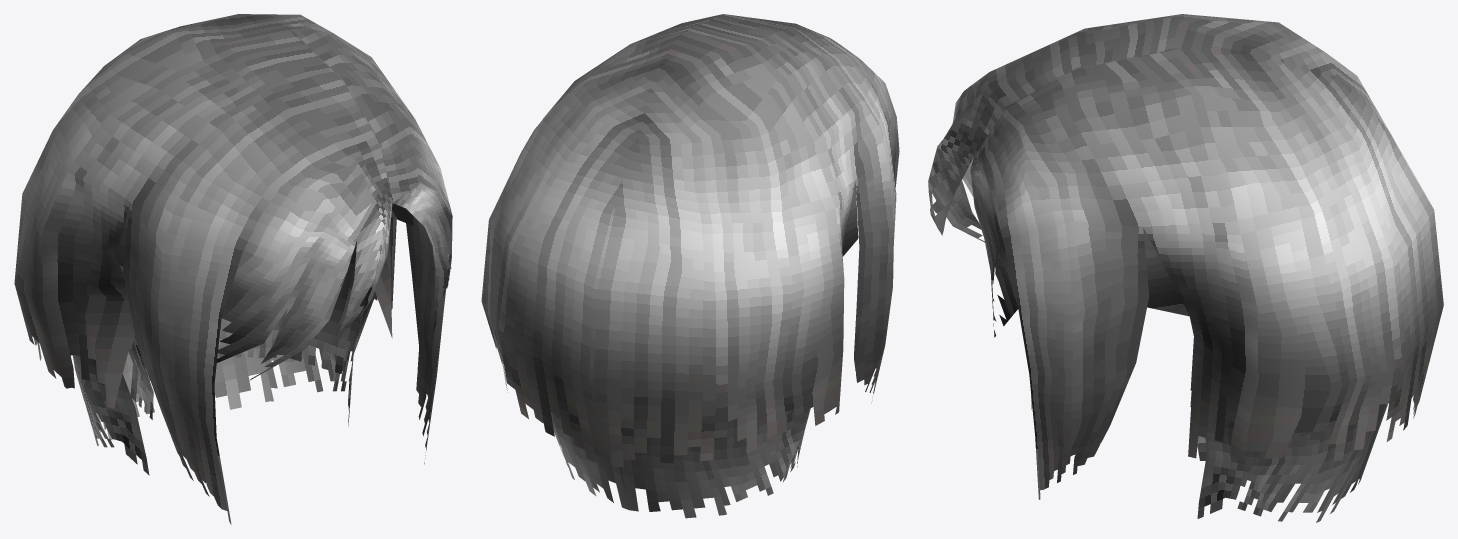
Rendered from f_hair002.obj.
The picture shows the model from 3 angles, left to right: view 1: azimuth 30°, elevation 25°; view 2: azimuth 150°, elevation 25°; view 3: azimuth 270°, elevation 25°; orthographic projection. The views are drawn at different scales.
Visible parts, largest first — view 1: editpl_f-0000-1900; view 2: editpl_f-0000-1900; view 3: editpl_f-0000-1900.
Part boxes in pixels (bbox=[...]): editpl_f-0000-1900: bbox=[14, 14, 452, 524]; editpl_f-0000-1900: bbox=[481, 14, 899, 518]; editpl_f-0000-1900: bbox=[928, 14, 1443, 522].
Bounding box in the file's own units: 22.23 × 26.56 × 26.59.
